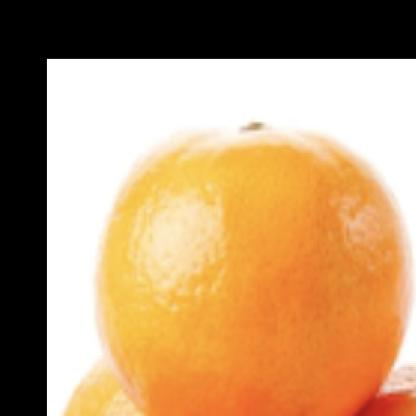fresh: (99, 124, 409, 416)
